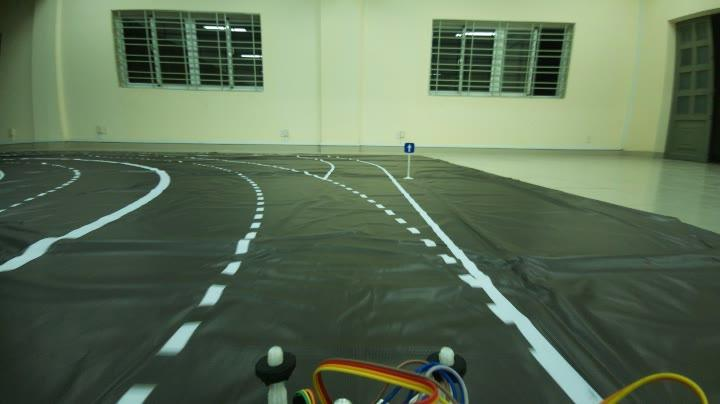onewayroad: (402, 141, 418, 155)
